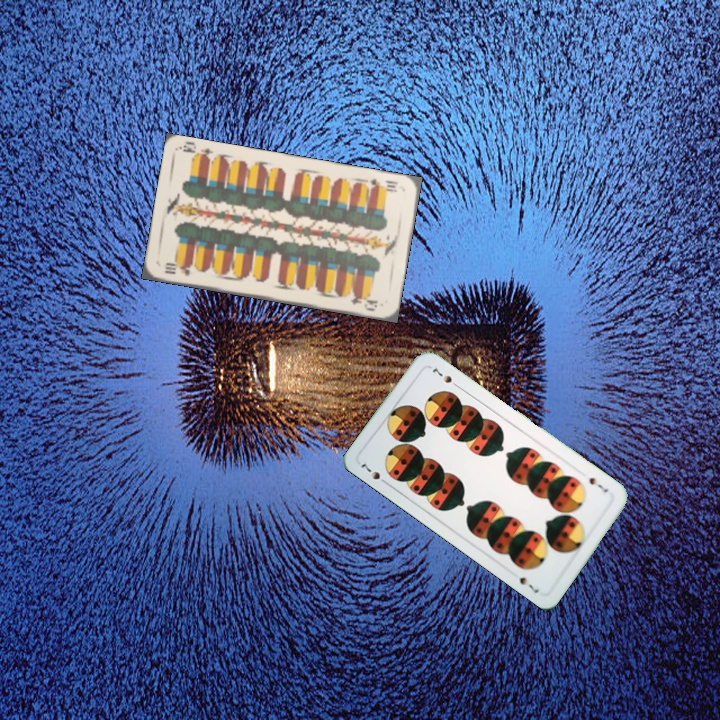E10: (161, 258, 199, 279), (365, 174, 401, 195)
S7: (357, 460, 391, 488), (585, 473, 611, 495)
